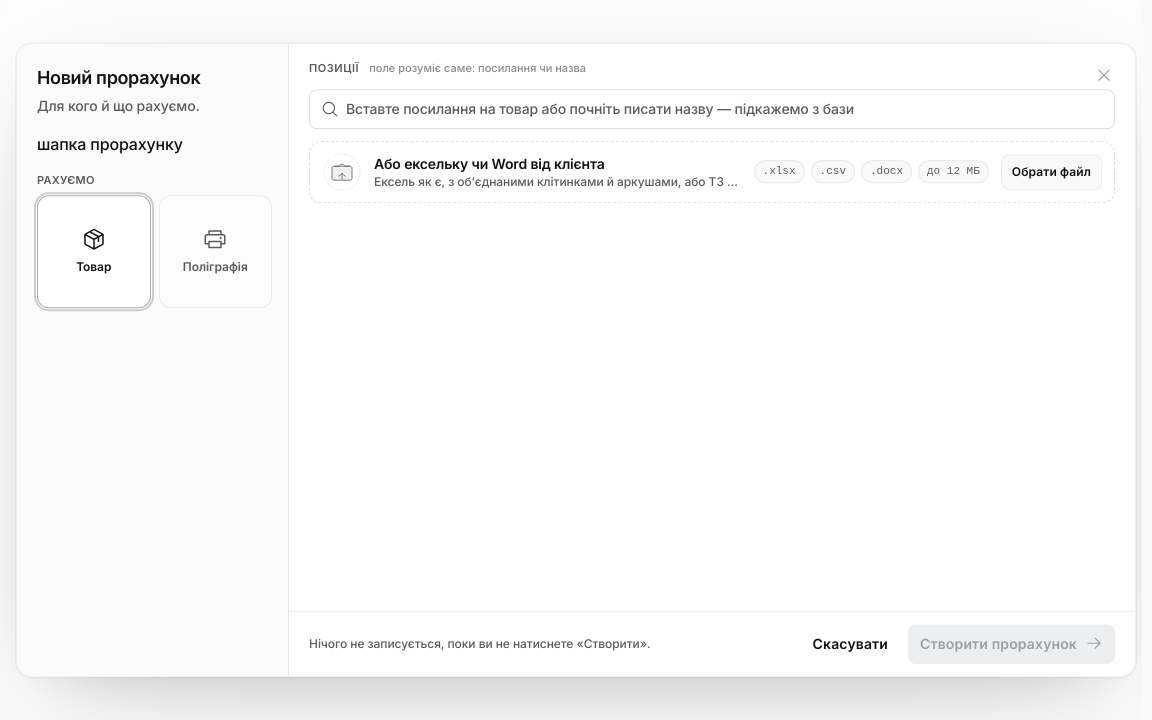
Test: QuoteWizardDialog — один екран › перший товар із поліграфічного типу перемикає «Рахуємо» на поліграфію
Type "блокнот" into the dropdown named "Товар: посилання або назва".
click(712, 109); type("блокнот")  # box [309,89,1115,129]
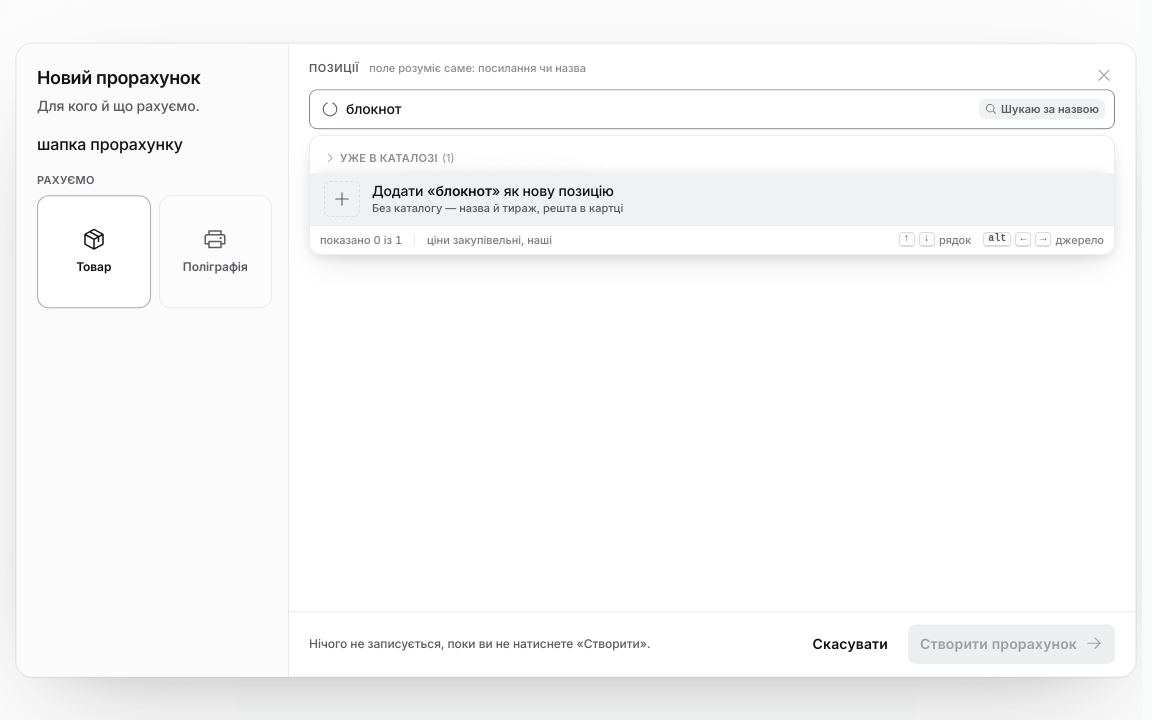
Click the button "Уже в каталозі (1)".
click(389, 158)  # box [316,146,1108,170]
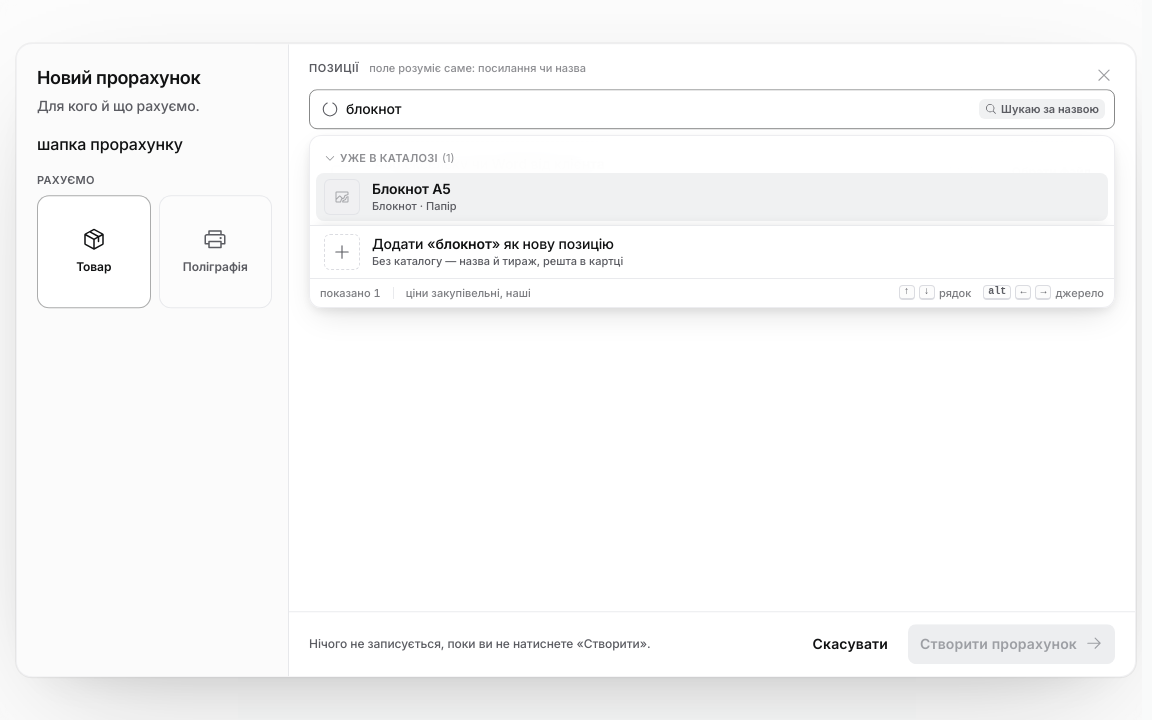
Click the option "Блокнот А5 Блокнот · Папір".
click(342, 196)  # box [316,172,1108,220]
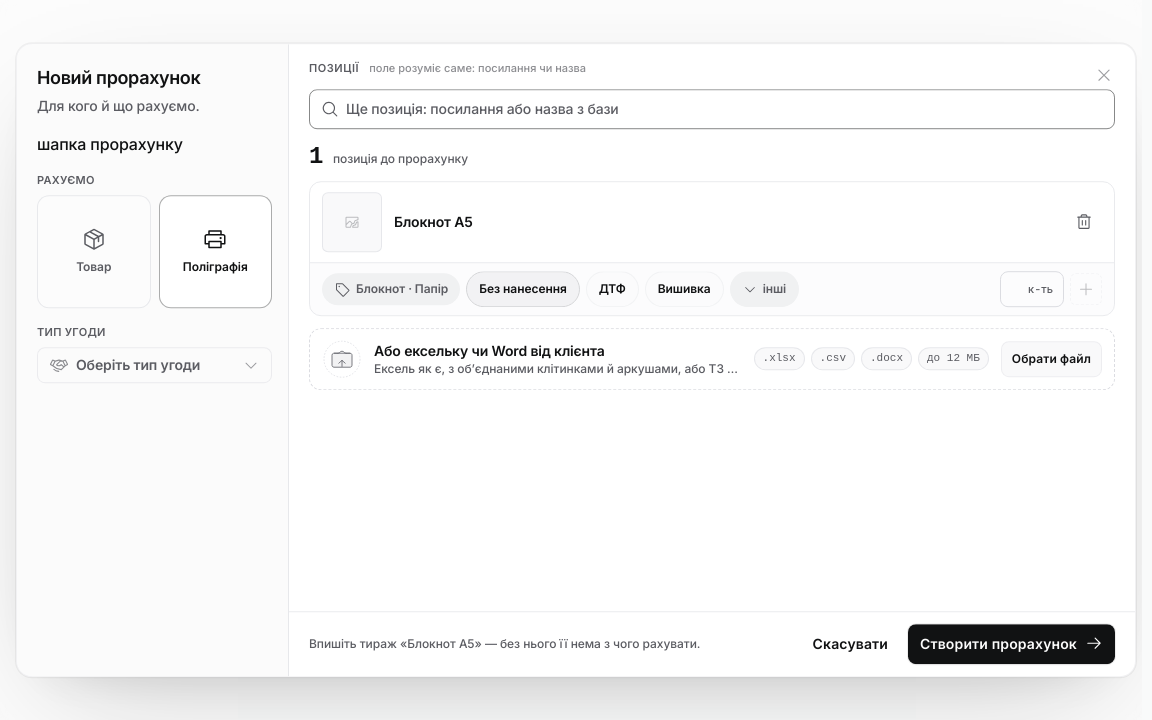
expect the radio button labelled "Поліграфія" is checked: met, box [158,195,272,308]
